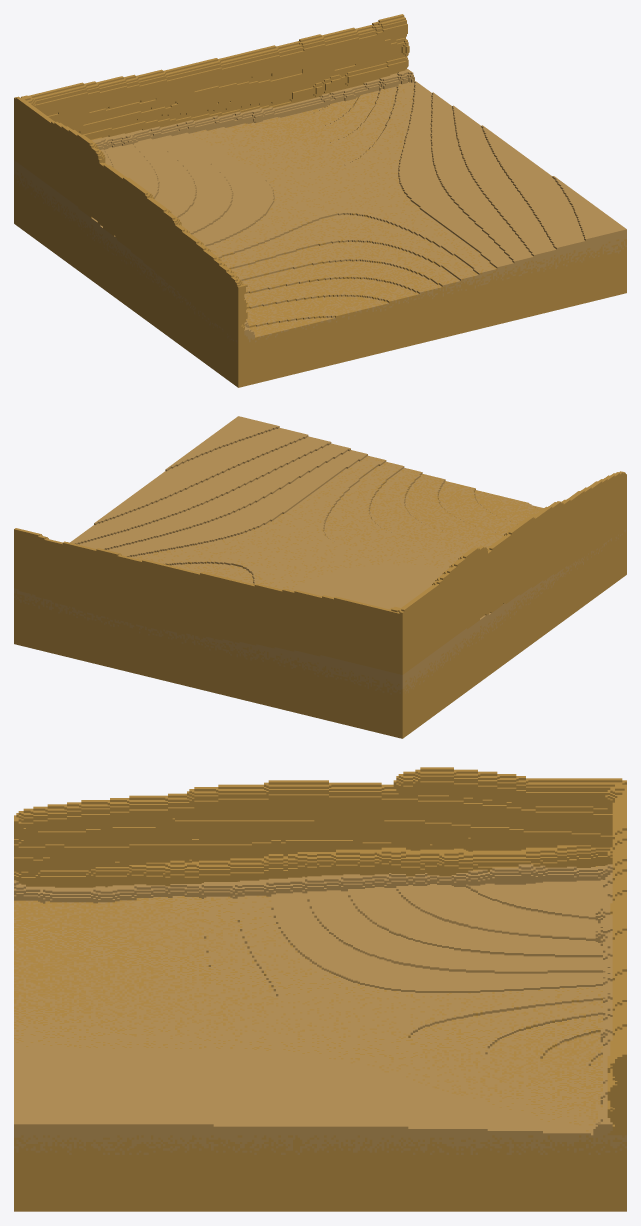
The model's file is Marte-3.obj.
3 views of the same model, one above another, from view 1: azimuth 30°, elevation 25°; view 2: azimuth 150°, elevation 25°; view 3: azimuth 270°, elevation 25° (orthographic). The views are drawn at different scales.
Size of the model in its own units: 25.5 by 8.5 by 25.5.
1 material, 1 textured.
